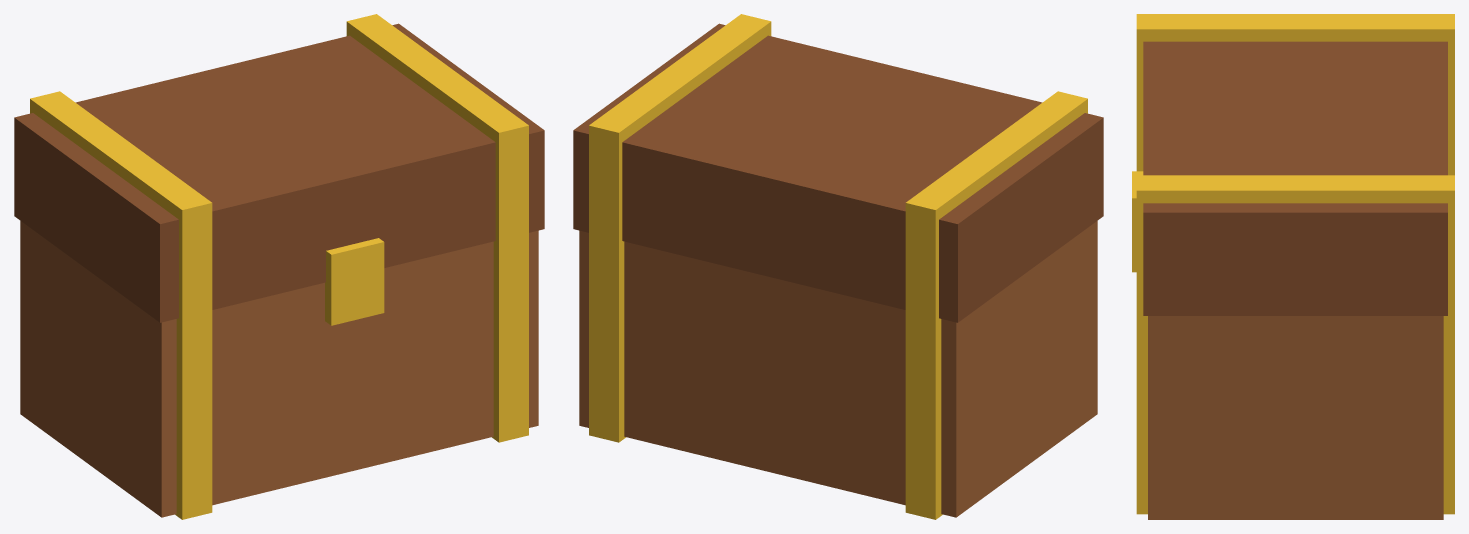
Rendered from chest.glb.
3 renders of one model, left to right at view 1: azimuth 30°, elevation 25°; view 2: azimuth 150°, elevation 25°; view 3: azimuth 270°, elevation 25°, orthographic. The views are drawn at different scales.
Bounding box in the file's own units: 1.02 × 0.785 × 0.71.
